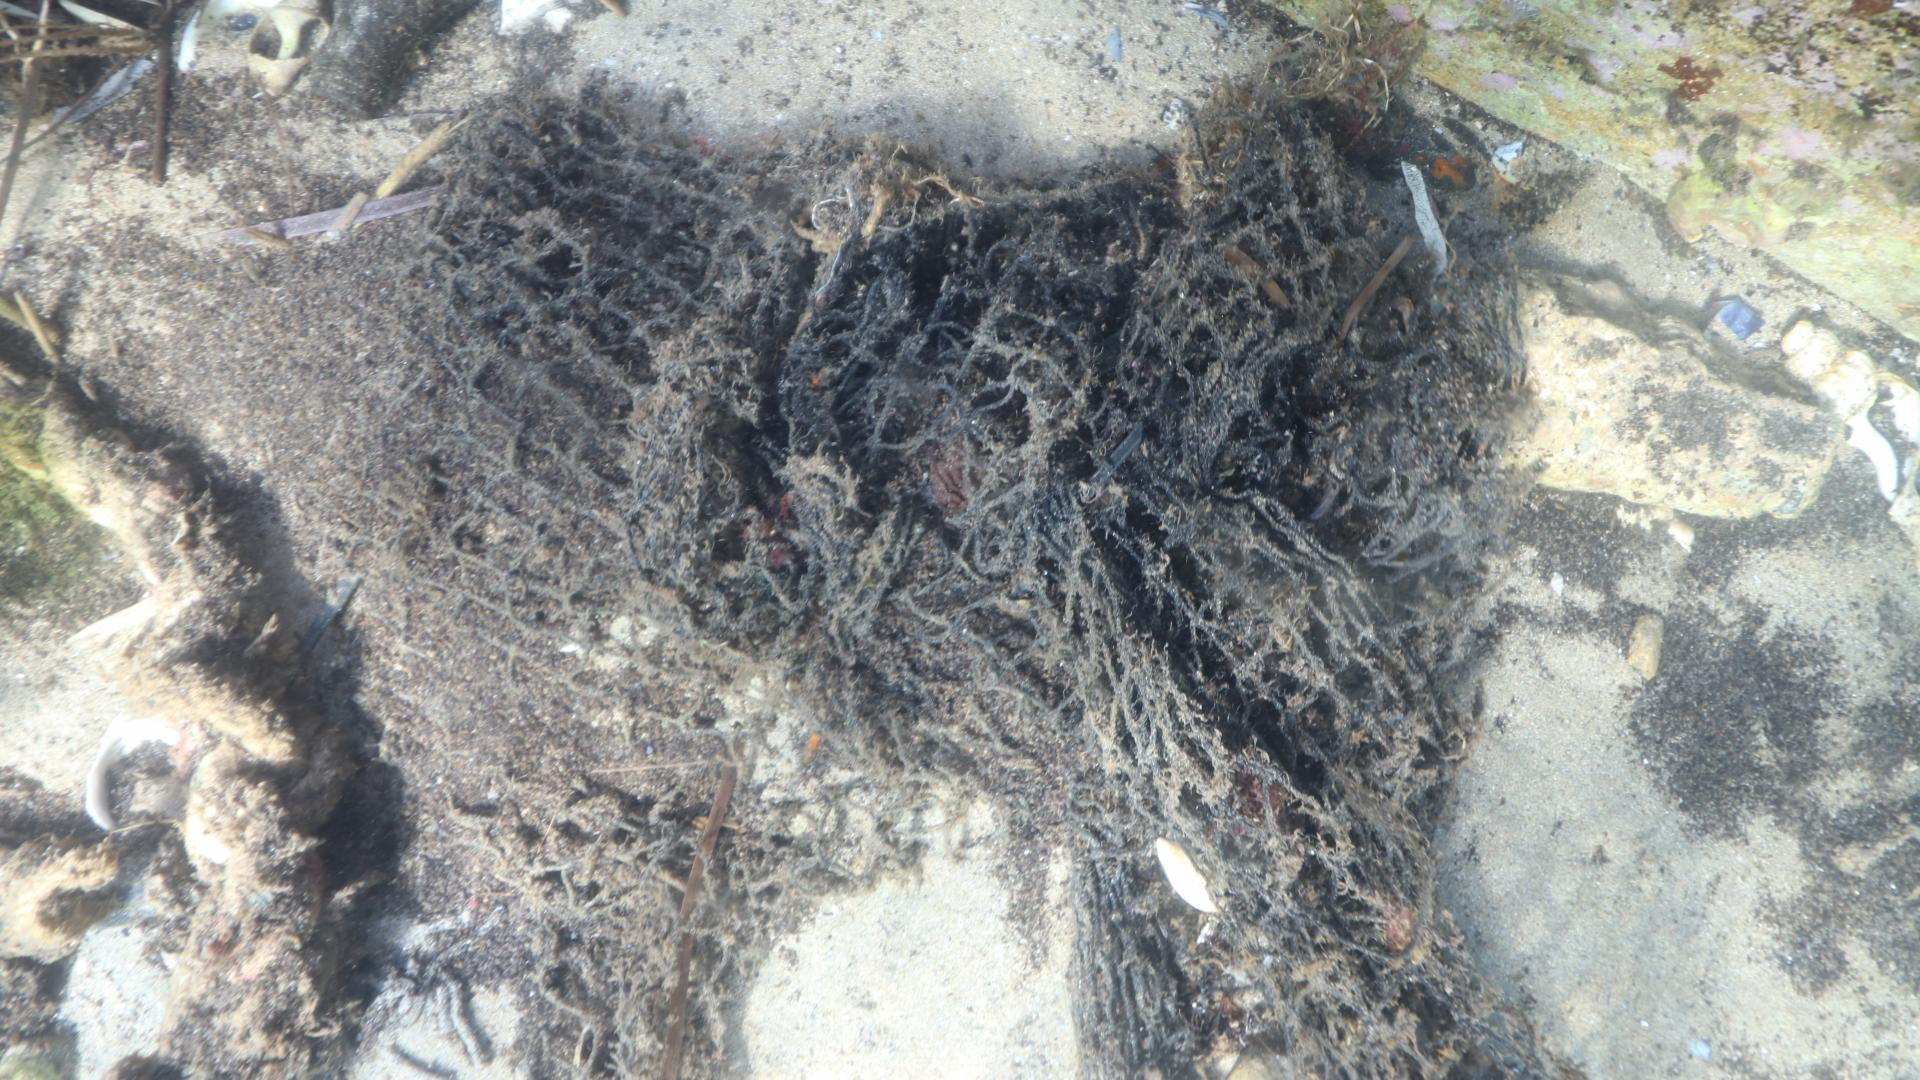bundle of ropes: (0, 371, 342, 1080)
fish net: (422, 94, 1538, 1080)
